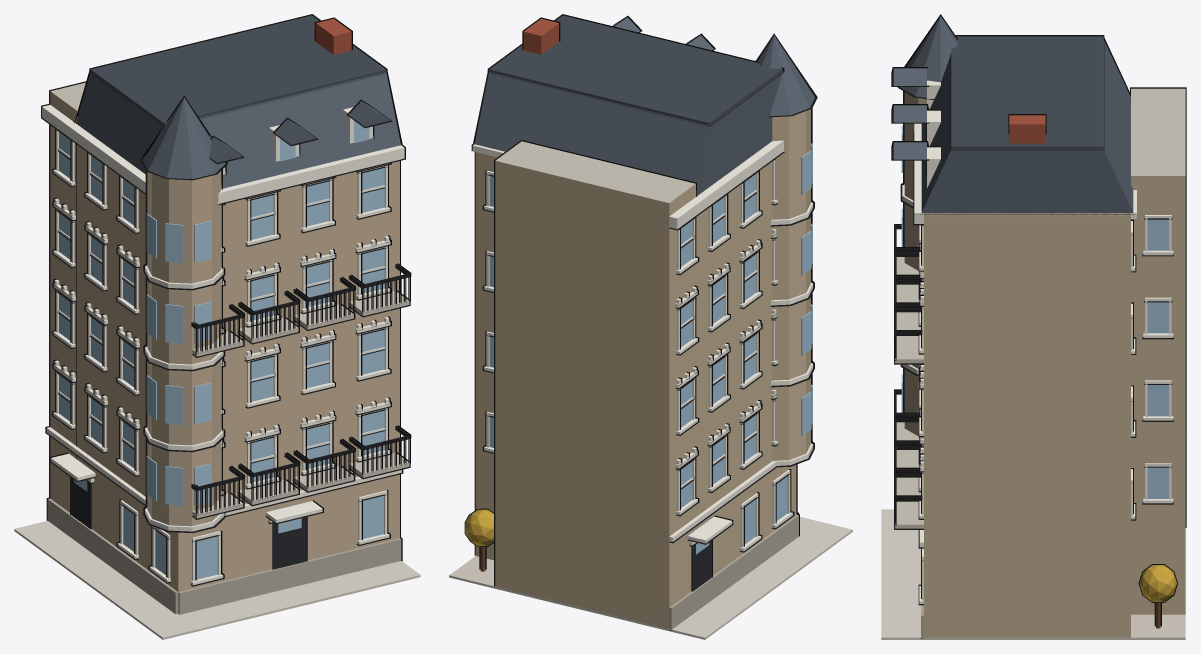
Rendered from Blok_kose_5k_3.fbx.
3 renders of one model, left to right at view 1: azimuth 30°, elevation 25°; view 2: azimuth 150°, elevation 25°; view 3: azimuth 270°, elevation 25°, orthographic. The views are drawn at different scales.
Visible parts, largest first — view 1: Blok_kose_5k_3; view 2: Blok_kose_5k_3; view 3: Blok_kose_5k_3.
Part boxes in pixels (box(x1,y1,x2,y2)): Blok_kose_5k_3: box(14, 14, 420, 639); Blok_kose_5k_3: box(449, 14, 852, 639); Blok_kose_5k_3: box(881, 14, 1186, 639).
Bounding box in the file's own units: 10.05 × 18.94 × 10.03.
